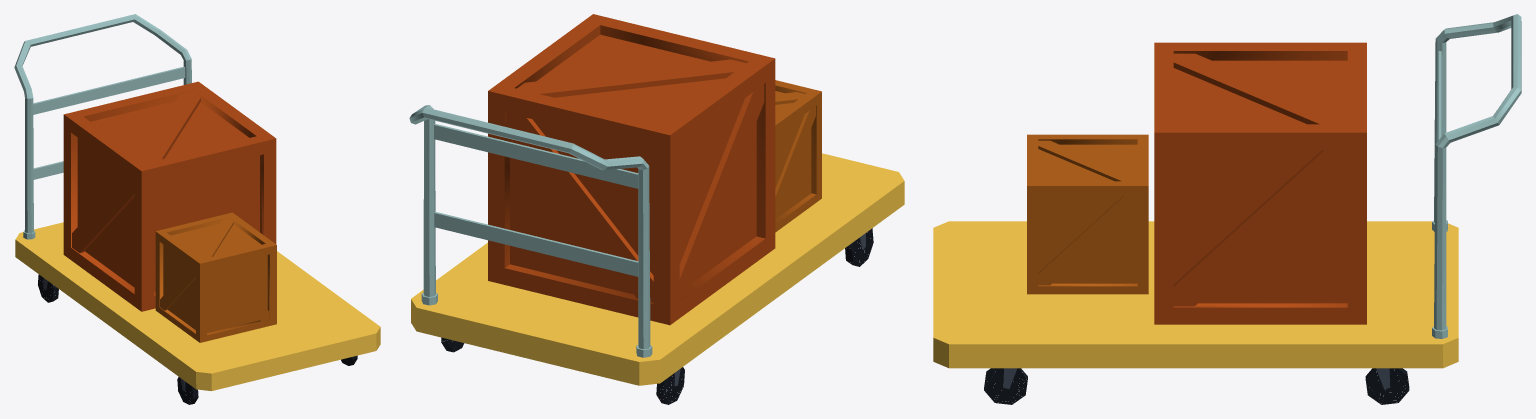
Rendered from Prop_Platform_Car_WB.fbx.
3 views of the same model, side by side, from view 1: azimuth 30°, elevation 25°; view 2: azimuth 150°, elevation 25°; view 3: azimuth 270°, elevation 25° (orthographic). The views are drawn at different scales.
Parts seen in each view (by area): view 1: Prop_Platform_Car.001; view 2: Prop_Platform_Car.001; view 3: Prop_Platform_Car.001.
Part boxes in pixels (<box>): Prop_Platform_Car.001: <box>14,14,380,404</box>; Prop_Platform_Car.001: <box>409,14,904,404</box>; Prop_Platform_Car.001: <box>933,14,1521,404</box>.
Bounding box in the file's own units: 185 × 91.64 × 104.
